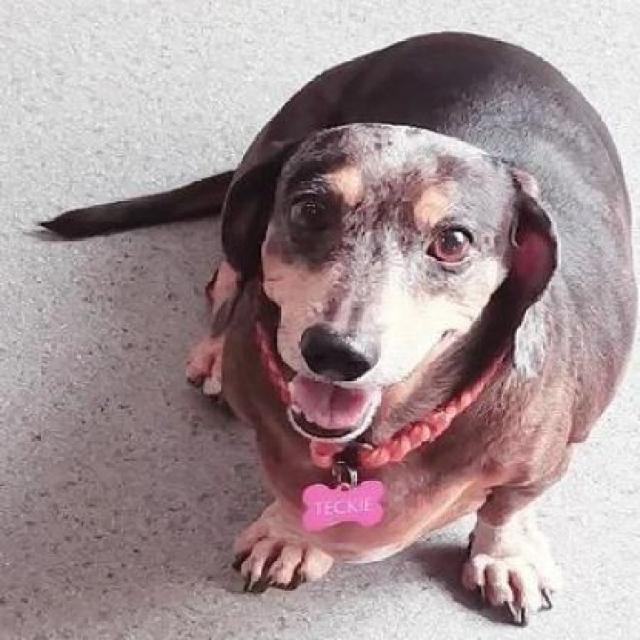Dog: (32, 22, 632, 628)
